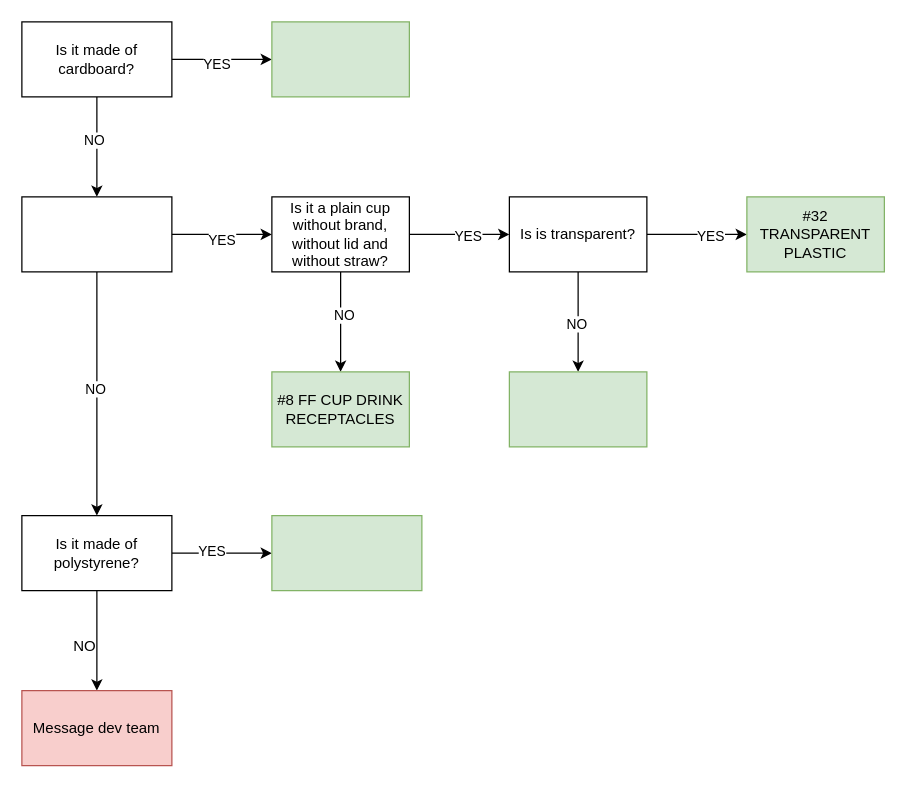
Image size: 906x788. Some labels were removed from this diagram. The centre of each missing label's shape, as x and y in pixels:
"#33 OPAQUE PLASTIC" goes at point 577,409.
"#43 OTHER FOAM POLYSTYRENE" goes at point 346,552.
"#7 CARTON DRINK RECEPTACLES" goes at point 340,59.
"Is it made of plastic?" goes at point 96,234.
